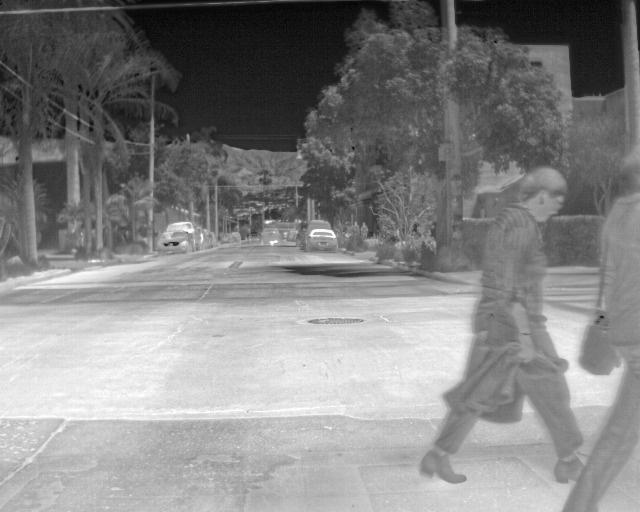bicycle: (297, 219, 332, 252), (154, 232, 196, 259), (307, 228, 340, 255), (164, 221, 198, 247)
empty: (417, 164, 589, 485), (558, 191, 639, 509), (357, 221, 370, 239), (350, 218, 363, 234)
